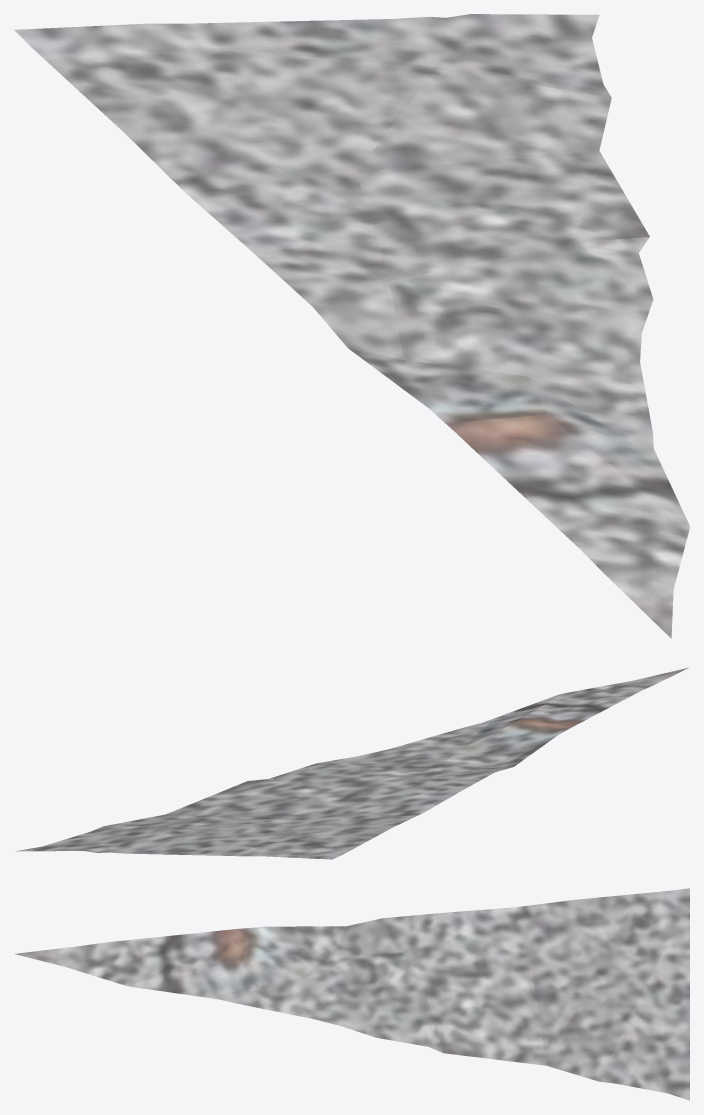
3 renders of one model, top to bottom at view 1: azimuth 30°, elevation 25°; view 2: azimuth 150°, elevation 25°; view 3: azimuth 270°, elevation 25°, orthographic. The views are drawn at different scales.
Bounding box in the file's own units: 0.4098 × 0.0855 × 0.7968.
Materials: 1 (1 with a texture image).
